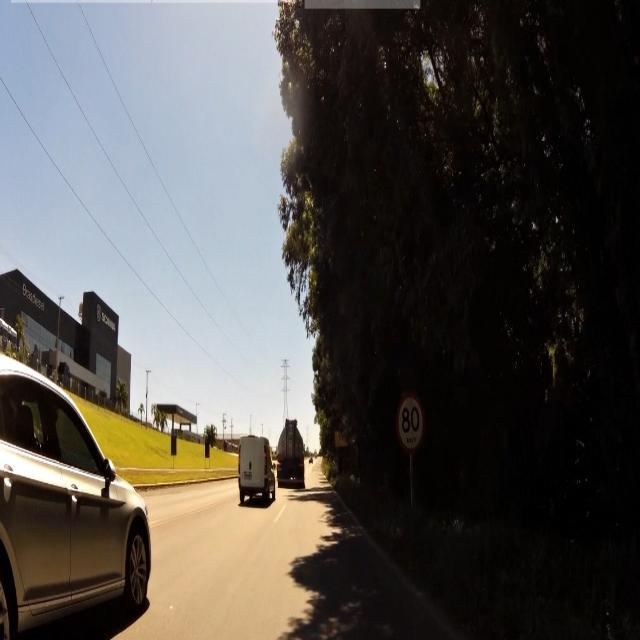R-19: (398, 394, 426, 456)
